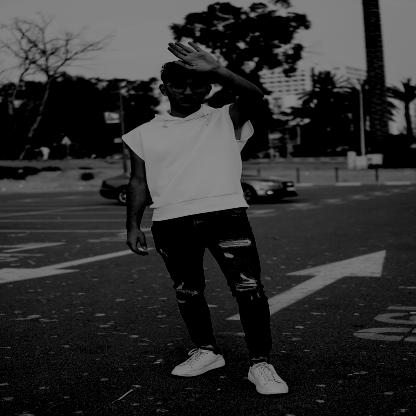jacket: (123, 104, 257, 222)
